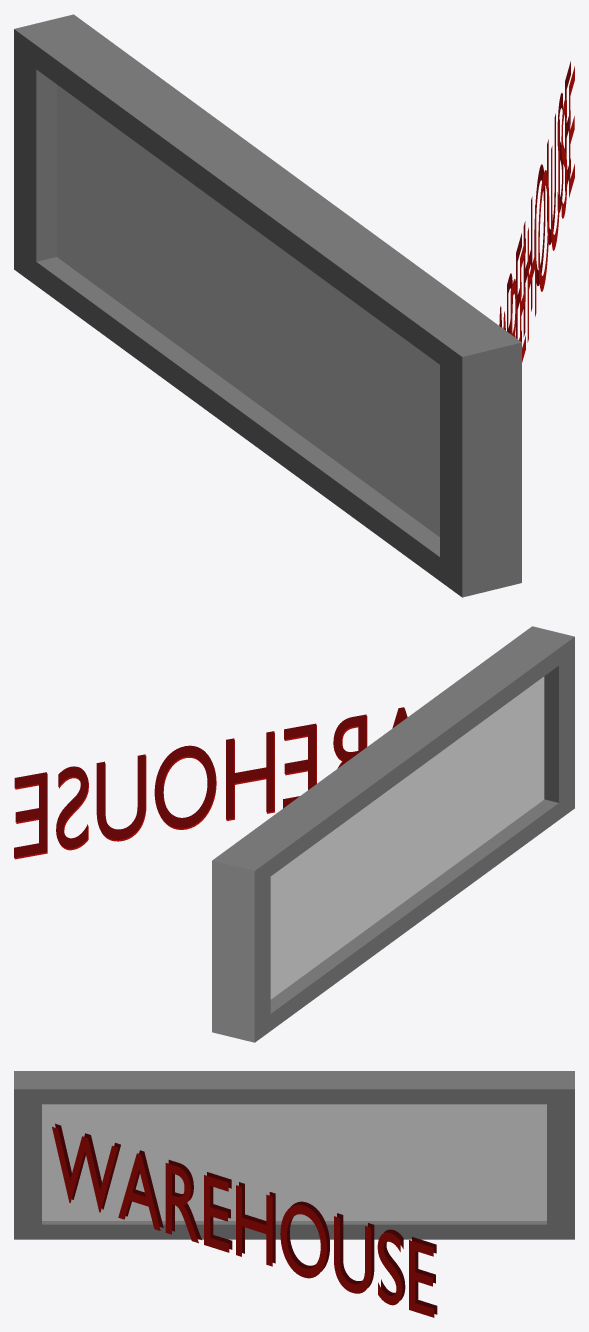
The model's file is Sign.fbx.
The picture shows the model from 3 angles, top to bottom: view 1: azimuth 30°, elevation 25°; view 2: azimuth 150°, elevation 25°; view 3: azimuth 270°, elevation 25°; orthographic projection. The views are drawn at different scales.
Parts seen in each view (by area): view 1: Cube, text.001, text; view 2: Cube, text, text.001; view 3: Cube, text.001, text.
Boxes of the visible parts, x1=… form: Cube: x1=14, y1=14, x2=521, y2=597; text.001: x1=503, y1=66, x2=574, y2=362; text: x1=499, y1=61, x2=570, y2=341; Cube: x1=212, y1=626, x2=574, y2=1042; text: x1=14, y1=707, x2=407, y2=857; text.001: x1=14, y1=709, x2=407, y2=859; Cube: x1=14, y1=1071, x2=574, y2=1239; text.001: x1=52, y1=1127, x2=434, y2=1317; text: x1=55, y1=1123, x2=437, y2=1314.
Size of the model in its own units: 578 by 296 by 1000.
